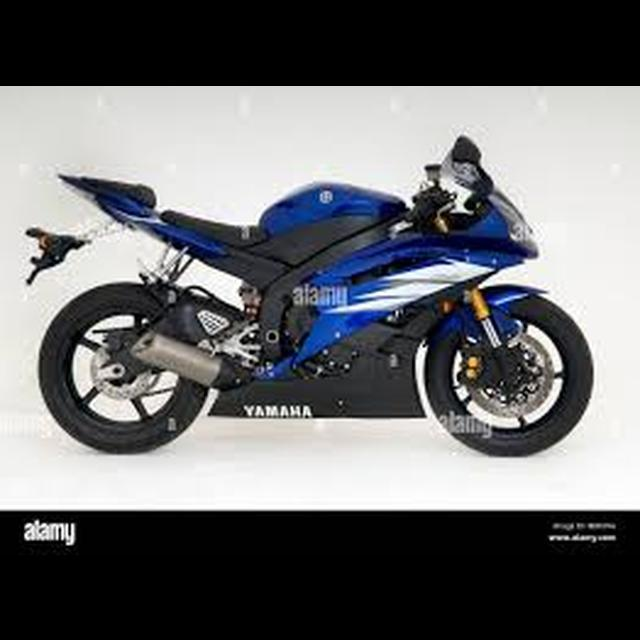motorcycle: (21, 131, 597, 458)
